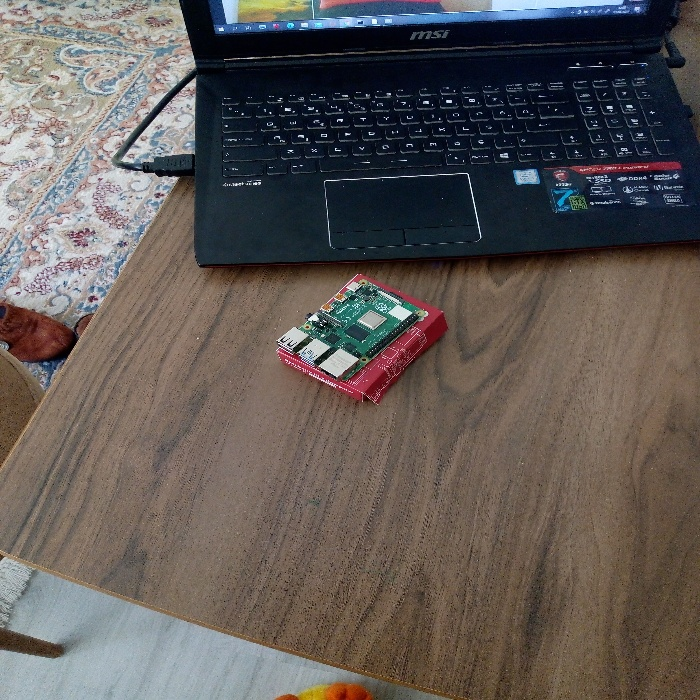raspberry: (265, 274, 431, 385)
